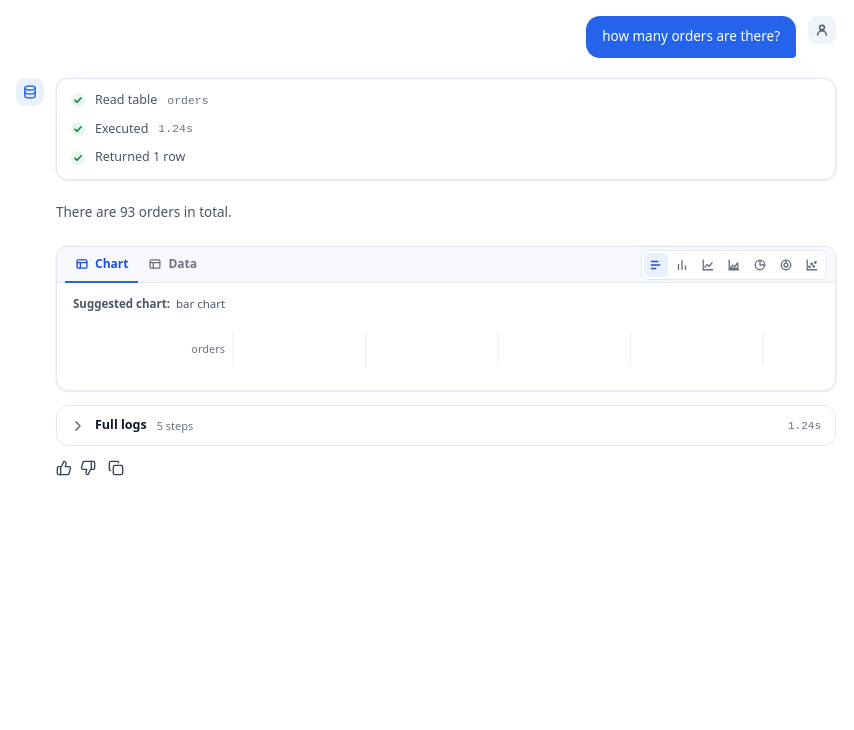
Test: Thread › keeps the query out of the trace and the log when it may not be shown
This screenshot has width=854, height=730.
Click the button "Full logs 5 steps 1.24s" at coordinates (121, 425), box [57,406,835,445]
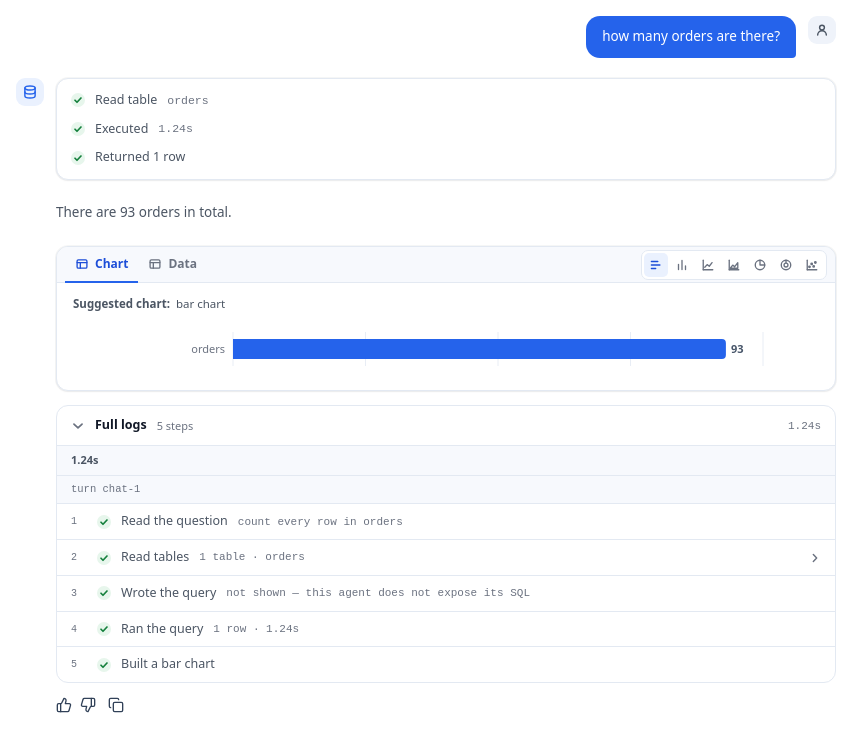
expect the text "Wrote the query" is shown: met, box [121,584,216,603]
expect the text "not shown — this agent does not expose its SQL" is shown: met, box [226,585,530,602]
